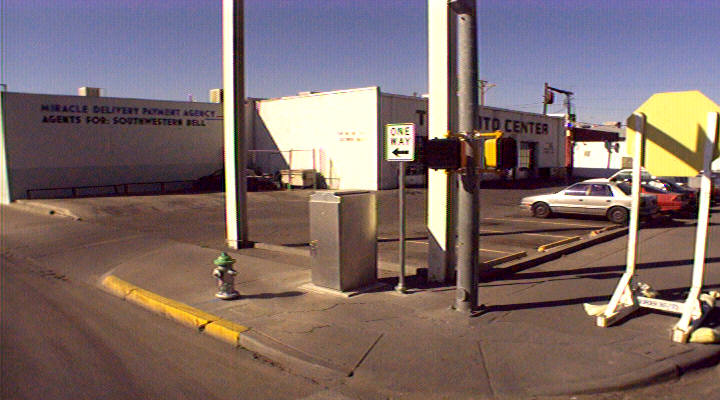Ramp: (222, 288, 708, 398)
